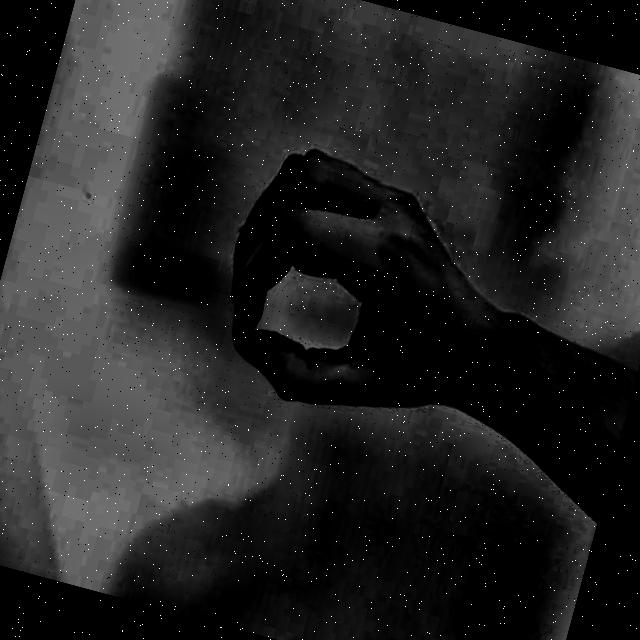O: (171, 88, 541, 495)
